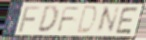D: (74, 5, 99, 36), (36, 5, 59, 35)
E: (113, 6, 140, 35)
F: (55, 6, 82, 34), (17, 5, 42, 34)
N: (94, 5, 122, 35)
